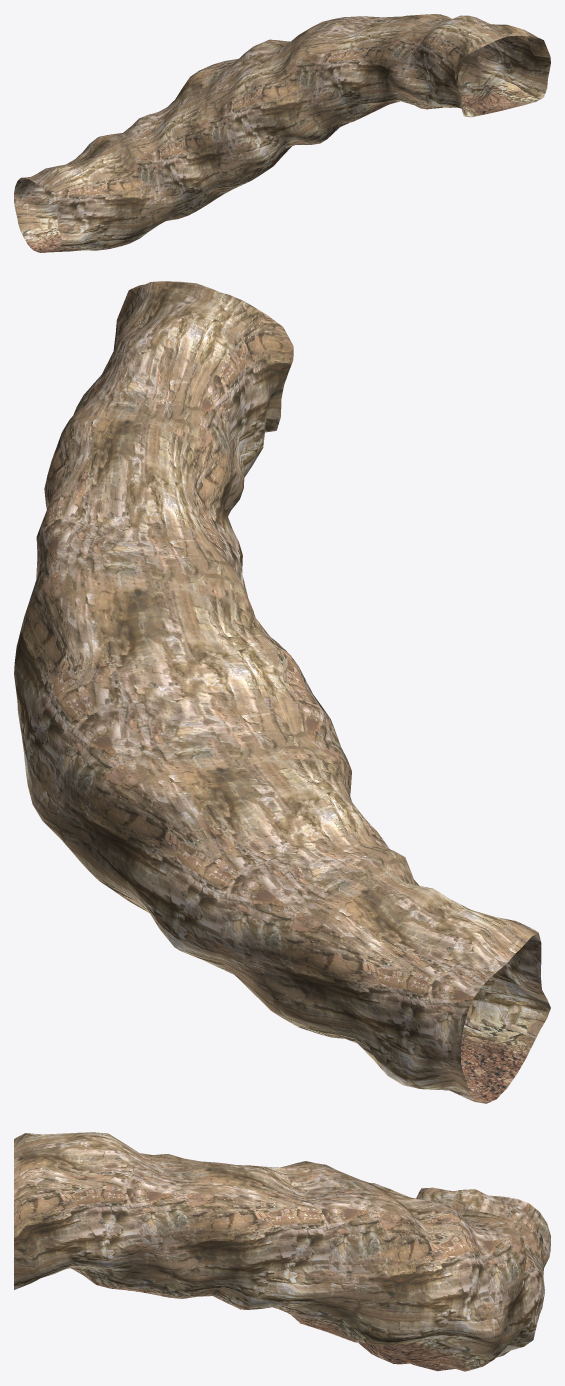
File: thm_tato_cave_s01_r12_mesh_r12.fbx
3 renders of one model, top to bottom at view 1: azimuth 30°, elevation 25°; view 2: azimuth 150°, elevation 25°; view 3: azimuth 270°, elevation 25°, orthographic. The views are drawn at different scales.
Parts seen in each view (by area): view 1: mesh_node; view 2: mesh_node; view 3: mesh_node.
Part boxes in pixels (x1,y1,x2,y2): mesh_node: (14, 14, 550, 252); mesh_node: (14, 281, 550, 1103); mesh_node: (14, 1132, 550, 1371).
Bounding box in the file's own units: 43.2 × 29.06 × 36.2.
